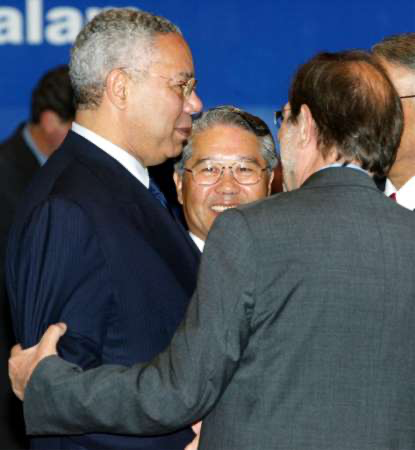Face: (133, 35, 205, 165), (176, 141, 272, 232)
